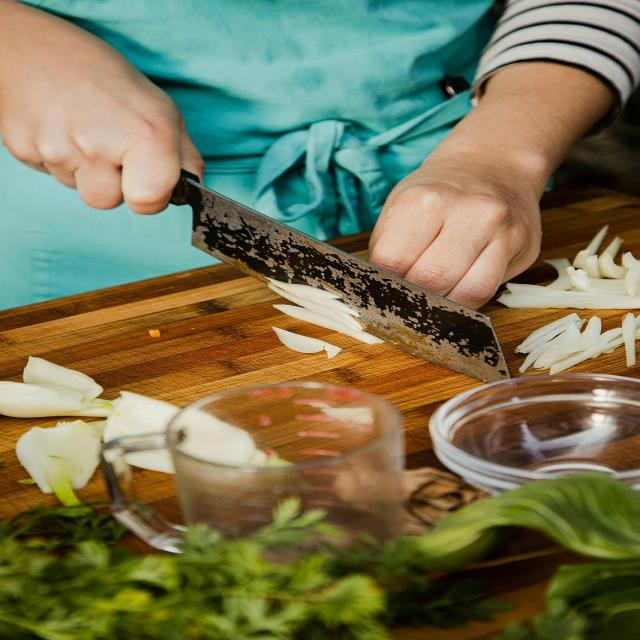knife: (167, 174, 511, 383)
